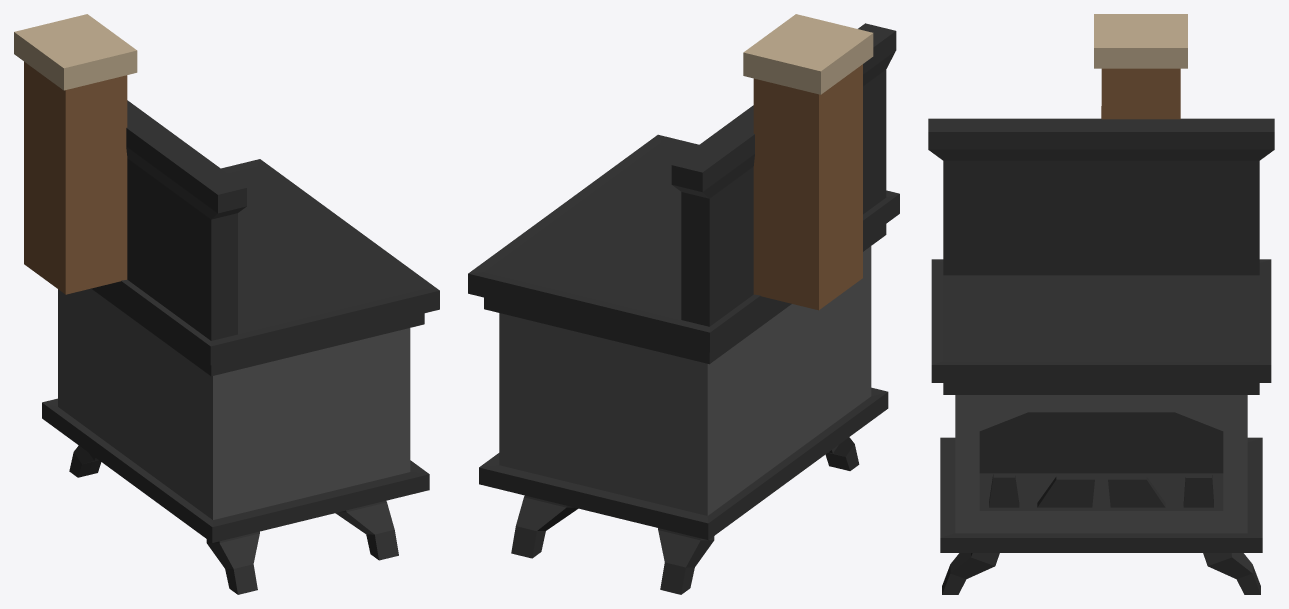
File: Oven.fbx
The picture shows the model from 3 angles, left to right: view 1: azimuth 30°, elevation 25°; view 2: azimuth 150°, elevation 25°; view 3: azimuth 270°, elevation 25°; orthographic projection. The views are drawn at different scales.
Visible parts, largest first — view 1: Plane.001; view 2: Plane.001; view 3: Plane.001.
Part boxes in pixels (x1=…): Plane.001: x1=14, y1=14, x2=439, y2=594; Plane.001: x1=468, y1=14, x2=899, y2=594; Plane.001: x1=928, y1=14, x2=1274, y2=594.
Size of the model in its own units: 216 by 350 by 237.
